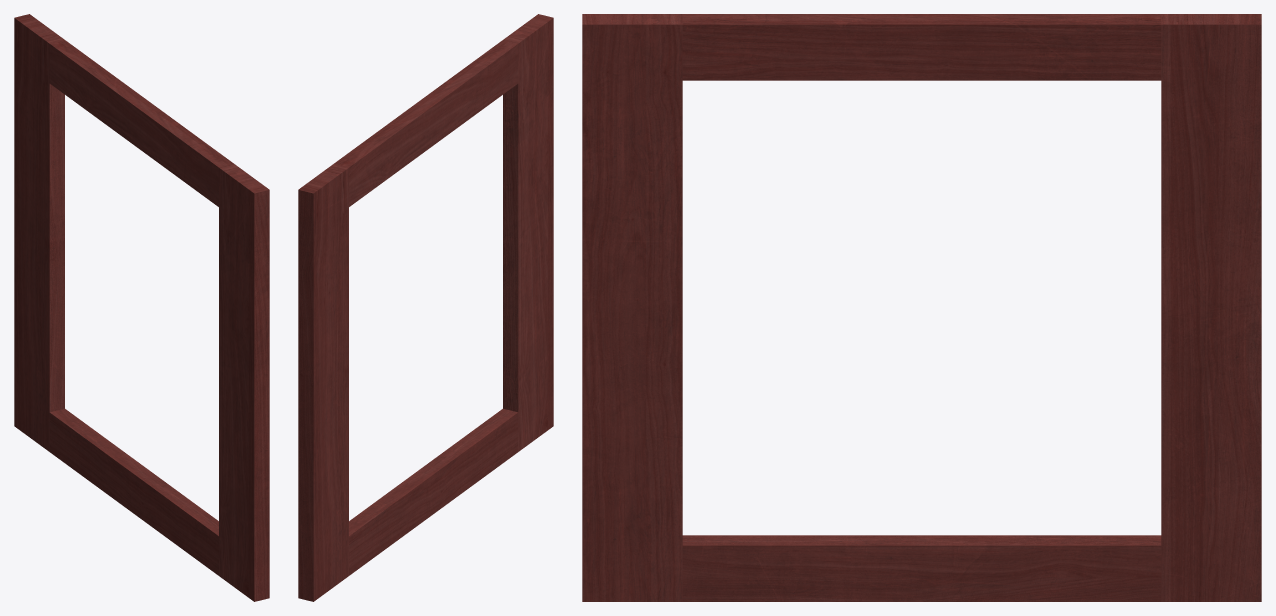
File: SM_DoorFrame02B.fbx
The picture shows the model from 3 angles, left to right: view 1: azimuth 30°, elevation 25°; view 2: azimuth 150°, elevation 25°; view 3: azimuth 270°, elevation 25°; orthographic projection. The views are drawn at different scales.
Visible parts, largest first — view 1: SM_DoorFrame02B; view 2: SM_DoorFrame02B; view 3: SM_DoorFrame02B.
Boxes of the visible parts, bbox=[...] form: SM_DoorFrame02B: bbox=[14, 14, 269, 601]; SM_DoorFrame02B: bbox=[298, 14, 553, 601]; SM_DoorFrame02B: bbox=[582, 14, 1261, 601].
Bounding box in the file's own units: 10 × 270 × 253.
